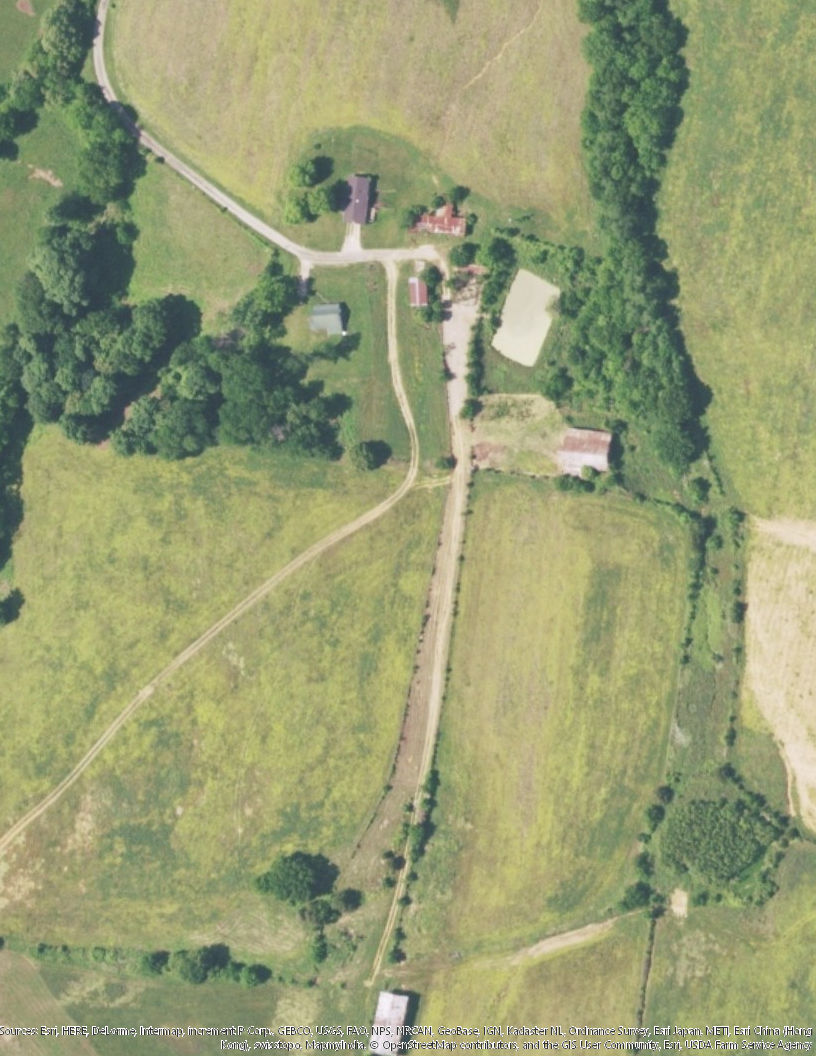cafo: (554, 426, 617, 474)
